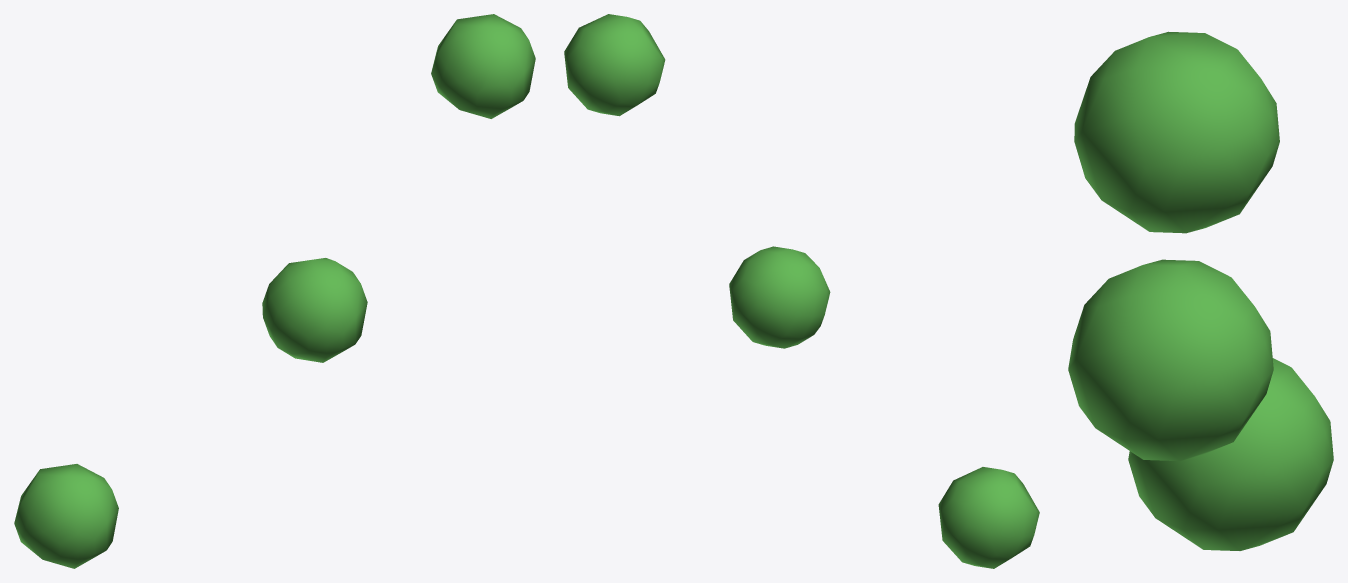
The model's file is linfatico-superolateral-superficial-inguinal-nodes-l.glb.
The picture shows the model from 3 angles, left to right: view 1: azimuth 30°, elevation 25°; view 2: azimuth 150°, elevation 25°; view 3: azimuth 270°, elevation 25°; orthographic projection. The views are drawn at different scales.
Parts seen in each view (by area): view 1: Superolateral superficial inguinal nodes.l; view 2: Superolateral superficial inguinal nodes.l; view 3: Superolateral superficial inguinal nodes.l.
Boxes of the visible parts, box(x1,y1,x2,y2) form: Superolateral superficial inguinal nodes.l: box(14, 14, 535, 568); Superolateral superficial inguinal nodes.l: box(564, 14, 1039, 568); Superolateral superficial inguinal nodes.l: box(1068, 31, 1333, 550).
Bounding box in the file's own units: 0.0138 × 0.0121 × 0.00334.
